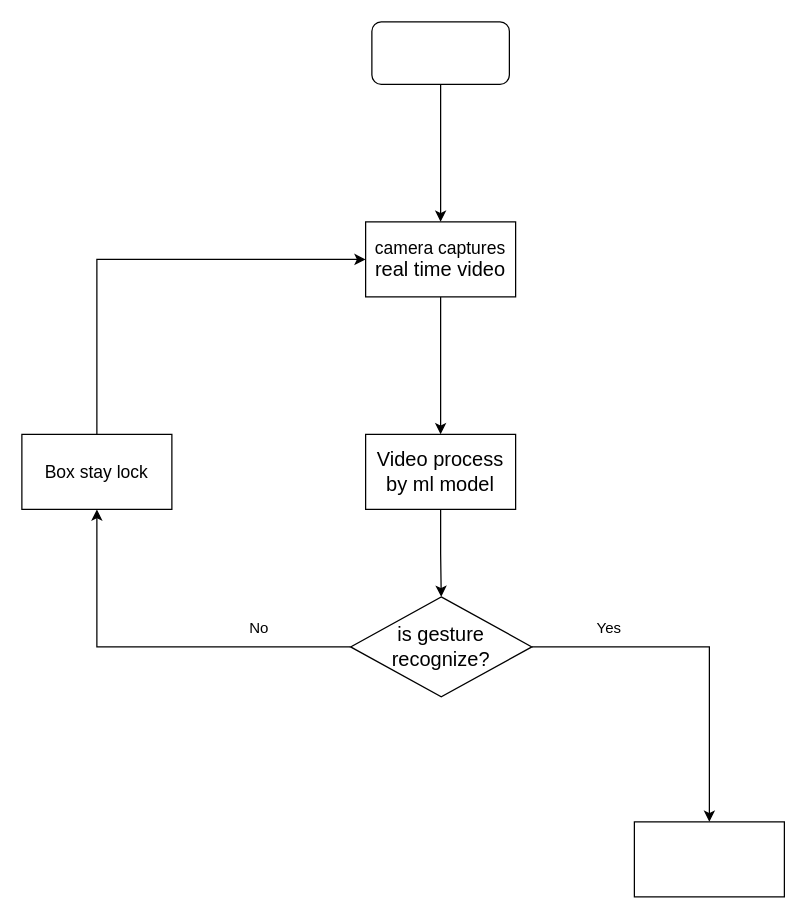
This 806x919 diagram has some shape labels left out. Each missing label, with the centre of its shape:
"Open the lock" goes at (708,859).
"start" goes at (440,52).
